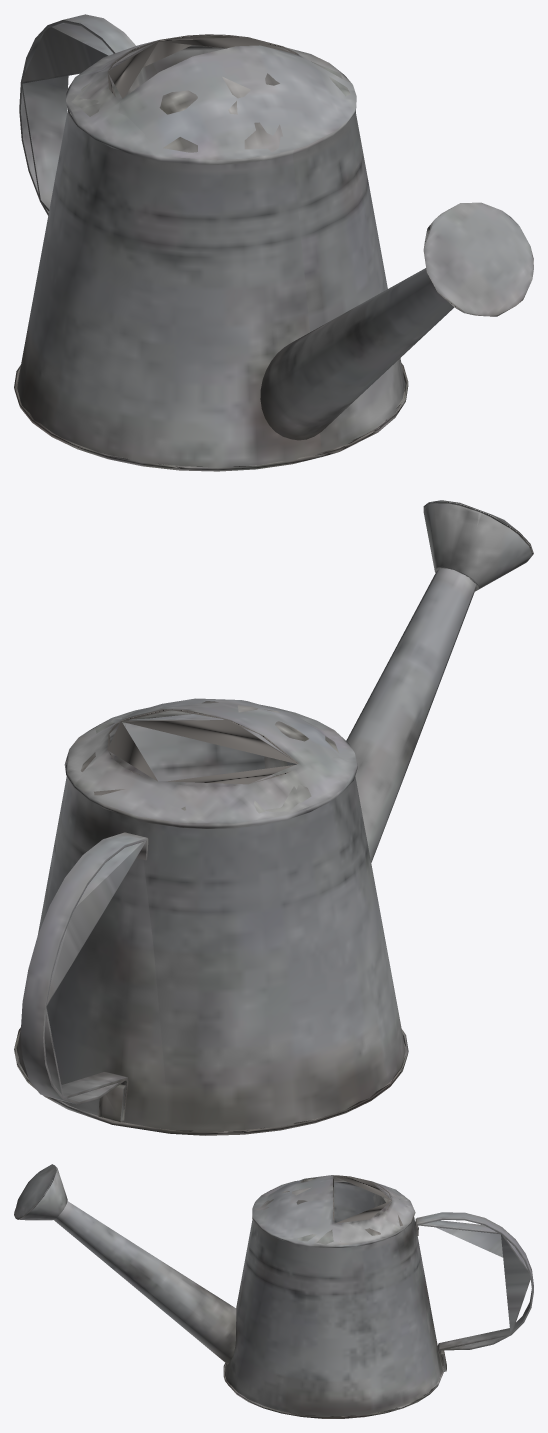
File: watering_can_metal_01.glb
The picture shows the model from 3 angles, top to bottom: view 1: azimuth 30°, elevation 25°; view 2: azimuth 150°, elevation 25°; view 3: azimuth 270°, elevation 25°; orthographic projection. The views are drawn at different scales.
Parts seen in each view (by area): view 1: watering_can_metal_01, watering_can_metal_01_lo; view 2: watering_can_metal_01, watering_can_metal_01_lo; view 3: watering_can_metal_01, watering_can_metal_01_lo.
Boxes of the visible parts, bbox=[...] form: watering_can_metal_01: bbox=[14, 14, 533, 471]; watering_can_metal_01_lo: bbox=[15, 23, 447, 467]; watering_can_metal_01: bbox=[14, 500, 533, 1135]; watering_can_metal_01_lo: bbox=[17, 500, 495, 1131]; watering_can_metal_01: bbox=[14, 1164, 533, 1418]; watering_can_metal_01_lo: bbox=[51, 1173, 531, 1416].
Bounding box in the file's own units: 0.1905 × 0.1965 × 0.4521.
Materials: 1 (1 with a texture image).
